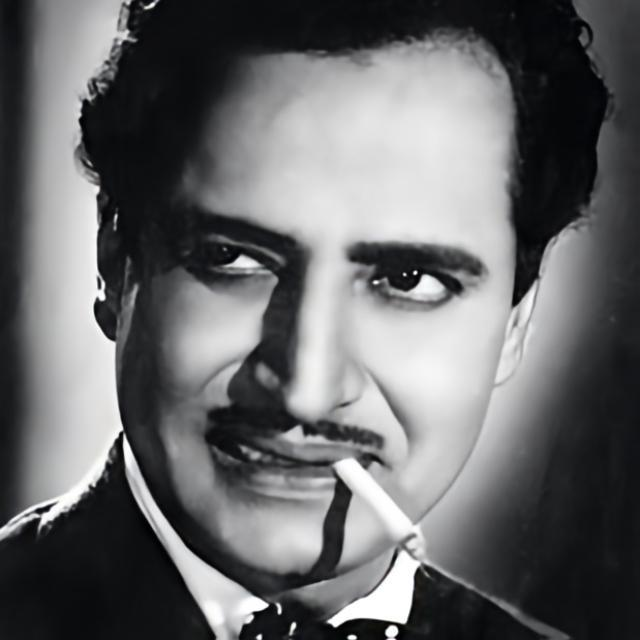content: (114, 19, 519, 582)
